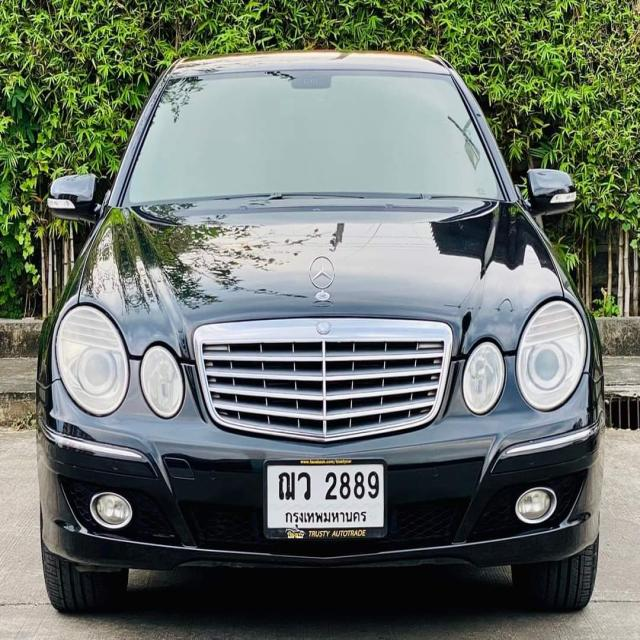license_plate: (262, 456, 392, 542)
